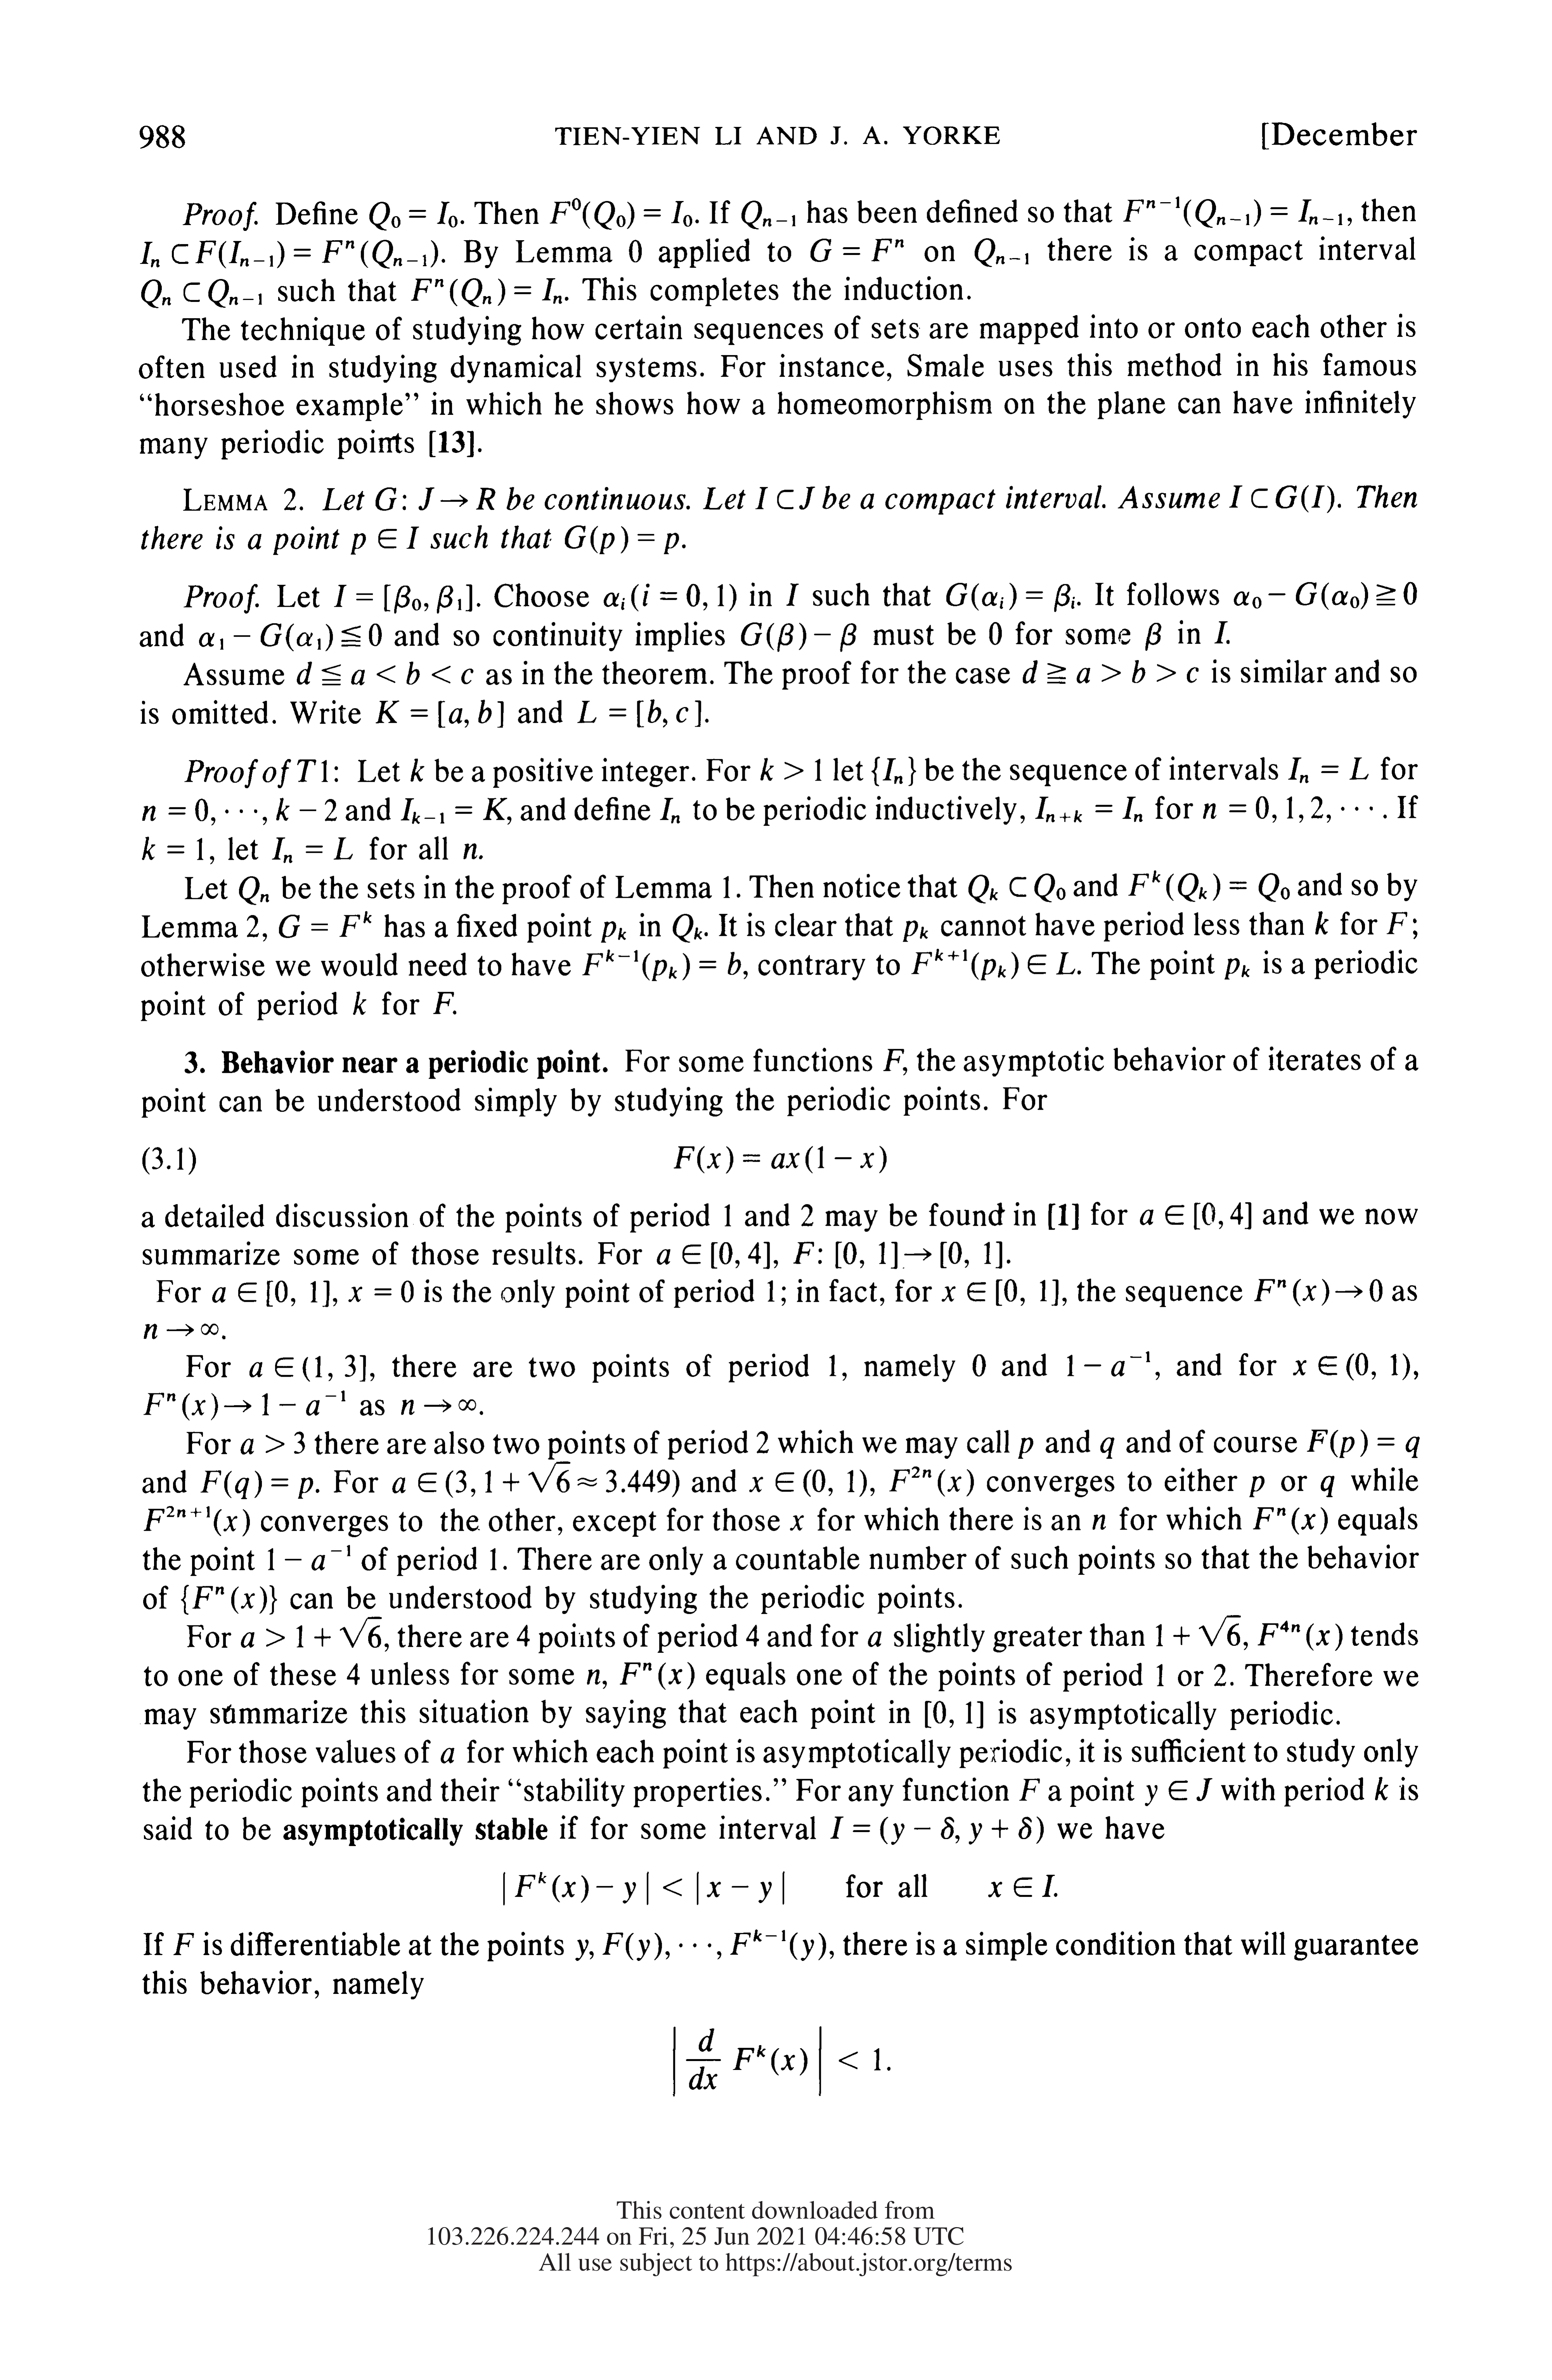maths: (673, 2026, 890, 2096), (392, 1462, 678, 1497), (503, 1872, 784, 1905), (140, 239, 437, 269), (602, 1929, 825, 1960), (1124, 196, 1342, 227), (144, 1391, 345, 1421), (831, 1816, 1044, 1844), (675, 1147, 886, 1173), (912, 949, 1075, 980), (1235, 581, 1417, 609), (199, 623, 381, 651), (1129, 871, 1290, 902), (583, 949, 740, 980), (411, 278, 562, 307), (550, 198, 692, 229), (792, 1242, 962, 1268), (241, 1617, 381, 1648), (1203, 796, 1372, 822), (297, 661, 473, 685), (1023, 659, 1198, 683), (335, 585, 472, 612), (947, 583, 1075, 612), (603, 583, 735, 611), (577, 699, 708, 727), (1254, 1278, 1382, 1306), (376, 699, 503, 727), (740, 623, 857, 652), (140, 279, 262, 307), (565, 526, 685, 553), (144, 1506, 250, 1537), (749, 1469, 867, 1497), (657, 1242, 779, 1268), (1157, 1615, 1247, 1650), (1139, 1202, 1250, 1230), (1307, 1429, 1418, 1457), (201, 1471, 312, 1499), (250, 1355, 366, 1381), (969, 873, 1065, 902), (180, 1586, 276, 1615), (1035, 796, 1143, 822), (401, 798, 506, 824), (1229, 486, 1334, 512), (376, 487, 494, 510), (369, 201, 458, 231), (1257, 1620, 1342, 1650), (890, 1466, 973, 1495), (279, 911, 371, 937), (812, 239, 903, 262), (942, 1278, 1016, 1306), (1294, 1353, 1368, 1381), (619, 1662, 694, 1690), (142, 798, 215, 826), (1066, 1351, 1150, 1376), (267, 1546, 350, 1570), (212, 1280, 288, 1306), (1288, 758, 1368, 782), (272, 838, 352, 862), (1254, 1507, 1327, 1533), (1144, 1778, 1212, 1806), (350, 527, 418, 553), (975, 238, 1028, 267), (988, 1875, 1058, 1898), (740, 201, 796, 229), (349, 1280, 413, 1303), (241, 1431, 305, 1454), (760, 758, 822, 781), (276, 798, 336, 821), (142, 836, 203, 859), (756, 486, 815, 508), (872, 756, 916, 786), (144, 1324, 225, 1339), (401, 1400, 482, 1416), (964, 1242, 1009, 1268), (1372, 1353, 1410, 1379), (1021, 1280, 1058, 1306), (950, 1702, 983, 1728), (239, 876, 269, 904), (673, 914, 702, 942), (310, 1280, 336, 1306), (883, 1049, 907, 1076), (225, 810, 267, 824), (602, 921, 626, 942), (903, 921, 928, 942), (1224, 958, 1249, 978), (926, 1702, 945, 1728), (434, 992, 456, 1013), (1020, 1778, 1040, 1801), (173, 1932, 194, 1955), (661, 798, 680, 822), (1146, 623, 1162, 651), (1387, 912, 1406, 933), (586, 1669, 607, 1688), (576, 1939, 593, 1960), (1214, 621, 1229, 644), (1018, 1438, 1034, 1459), (988, 623, 1002, 645), (463, 843, 482, 859), (354, 991, 366, 1015), (1375, 1776, 1387, 1801), (1250, 1476, 1264, 1497), (786, 583, 798, 605), (411, 758, 423, 781), (1316, 911, 1328, 933), (1214, 1664, 1226, 1686), (831, 127, 846, 144), (973, 1355, 985, 1376), (1101, 1438, 1113, 1459), (1321, 1476, 1334, 1497), (517, 1625, 529, 1646), (746, 1625, 758, 1646), (347, 1664, 359, 1684), (1092, 1514, 1106, 1530), (440, 1749, 454, 1762), (791, 1514, 803, 1530), (869, 1632, 881, 1646), (1157, 1664, 1164, 1686), (491, 1547, 496, 1570)
